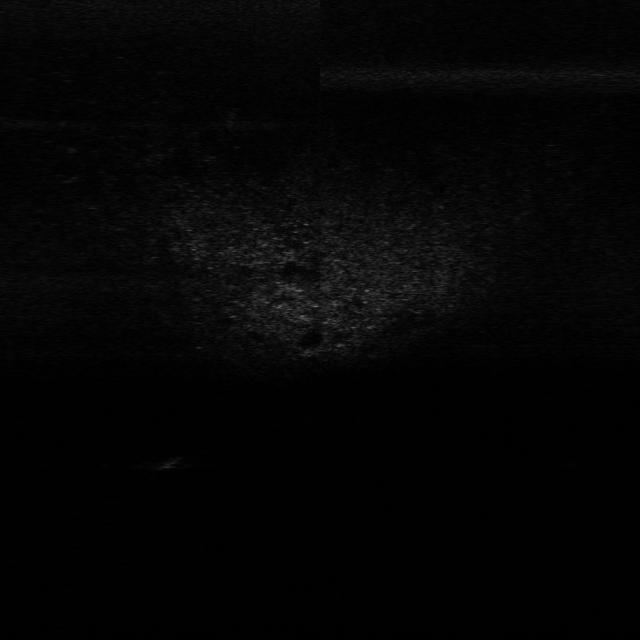cylinder: (154, 453, 186, 473)
